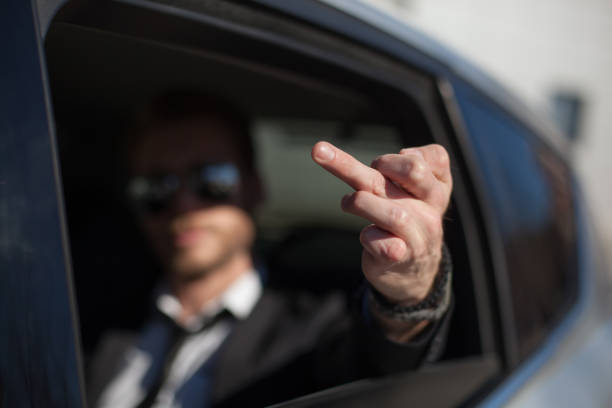insulting_gesture: (309, 137, 455, 311)
